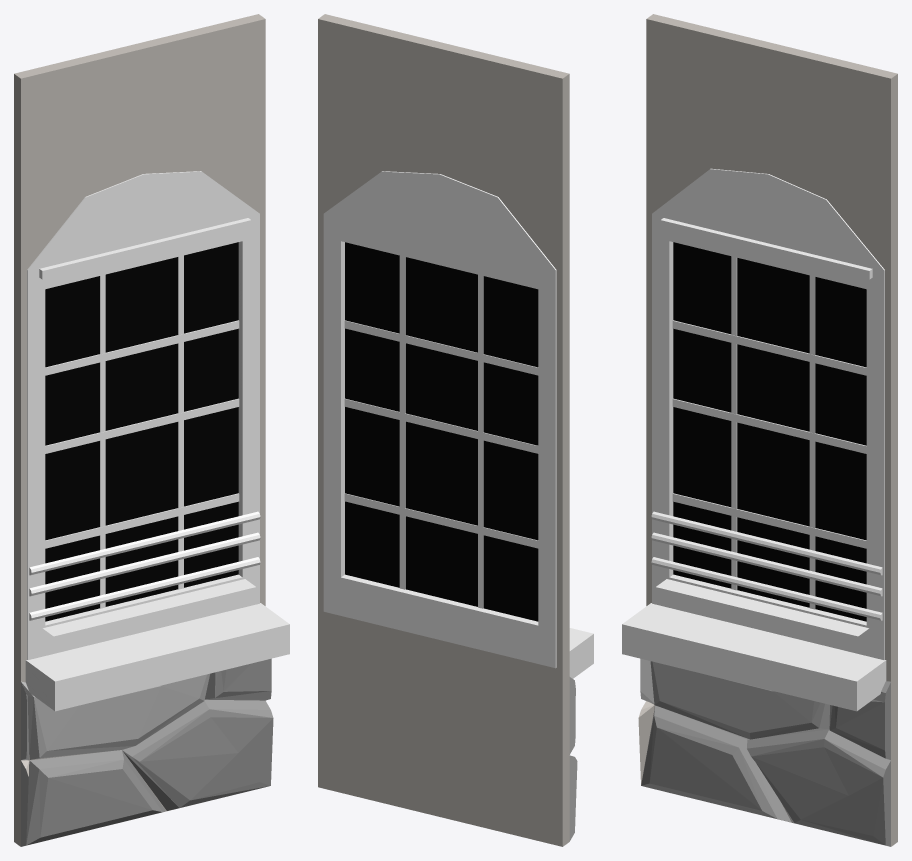
Rendered from _WINDOW_02_1.fbx.
3 views of the same model, side by side, from view 1: azimuth 30°, elevation 25°; view 2: azimuth 150°, elevation 25°; view 3: azimuth 330°, elevation 25° (orthographic).
Visible parts, largest first — view 1: WINDOW_02_1; view 2: WINDOW_02_1; view 3: WINDOW_02_1.
Part boxes in pixels (left/top/right/bottom): WINDOW_02_1: left=14, top=14, right=289, bottom=846; WINDOW_02_1: left=318, top=14, right=593, bottom=846; WINDOW_02_1: left=622, top=14, right=897, bottom=846.
Size of the model in its own units: 100 by 300 by 26.08.
